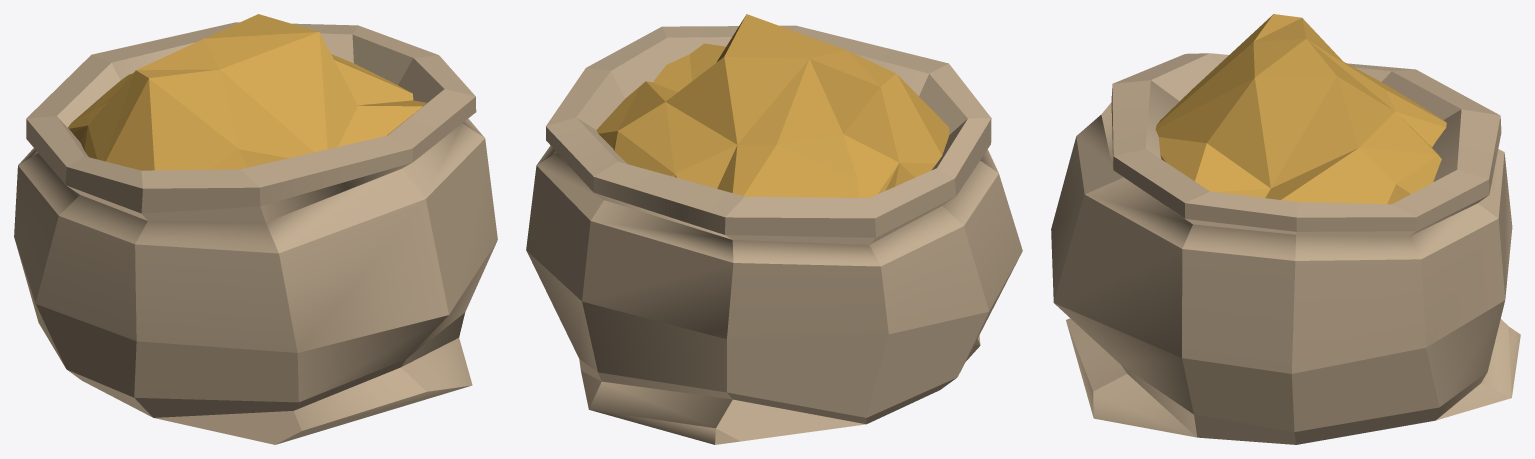
The model's file is SM_Prop_Sack_02.fbx.
3 views of the same model, side by side, from view 1: azimuth 30°, elevation 25°; view 2: azimuth 150°, elevation 25°; view 3: azimuth 270°, elevation 25° (orthographic).
Parts seen in each view (by area): view 1: SM_Prop_Sack_02; view 2: SM_Prop_Sack_02; view 3: SM_Prop_Sack_02.
Part boxes in pixels (x1,y1,x2,y2): SM_Prop_Sack_02: (14, 14, 497, 444); SM_Prop_Sack_02: (526, 14, 1022, 444); SM_Prop_Sack_02: (1051, 14, 1520, 444).
Size of the model in its own units: 66.76 by 45.5 by 63.12.
